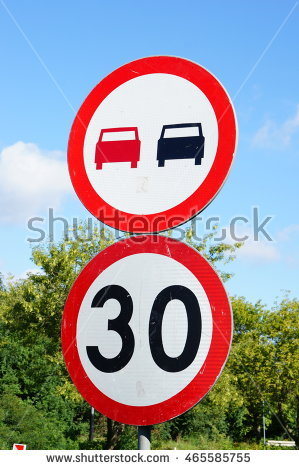Speed_limit_30km: (58, 241, 237, 420)
